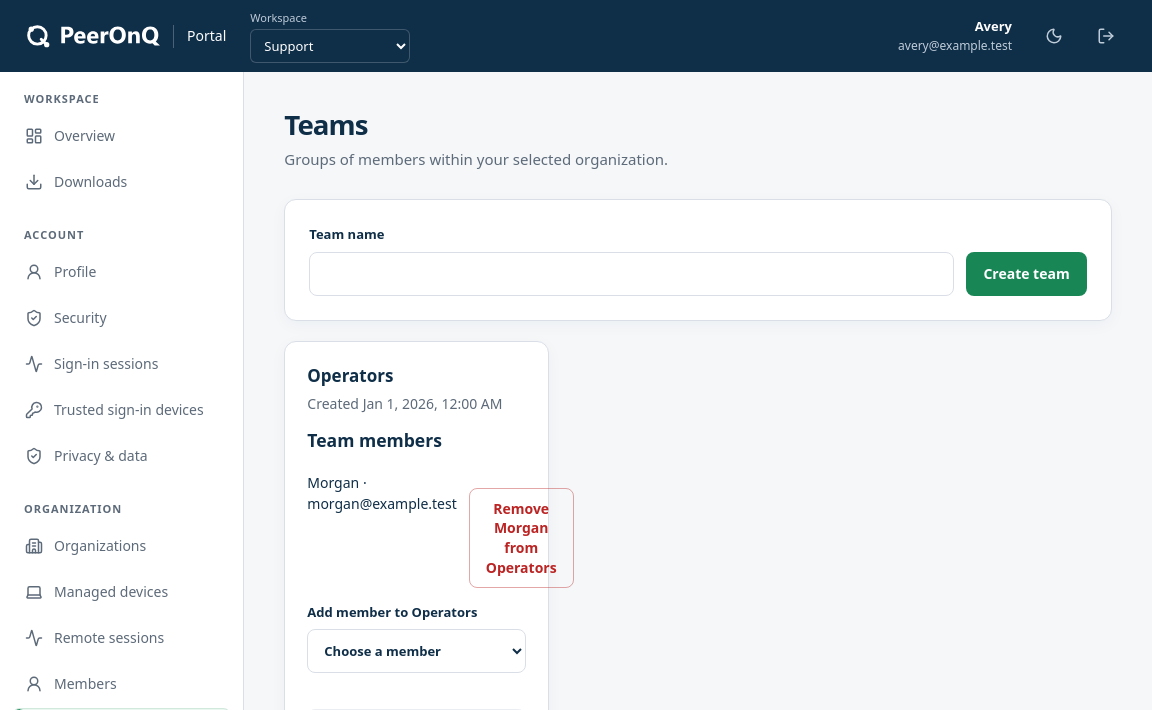
Test: organization lifecycle › removes a team member only after confirmation without removing organization membership
Click the button "Remove Morgan from Operators" at (521, 538), box [469, 488, 574, 588]
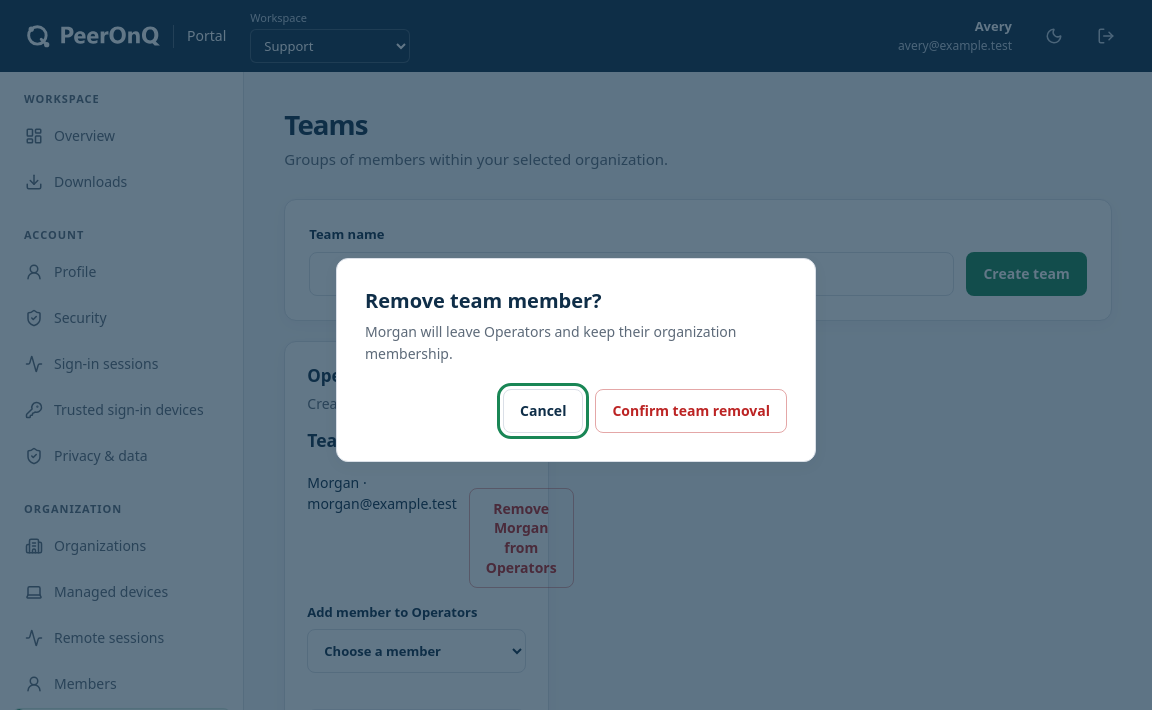
Click the button "Confirm team removal" at (691, 411), box [595, 389, 787, 433]
(page scrolled)
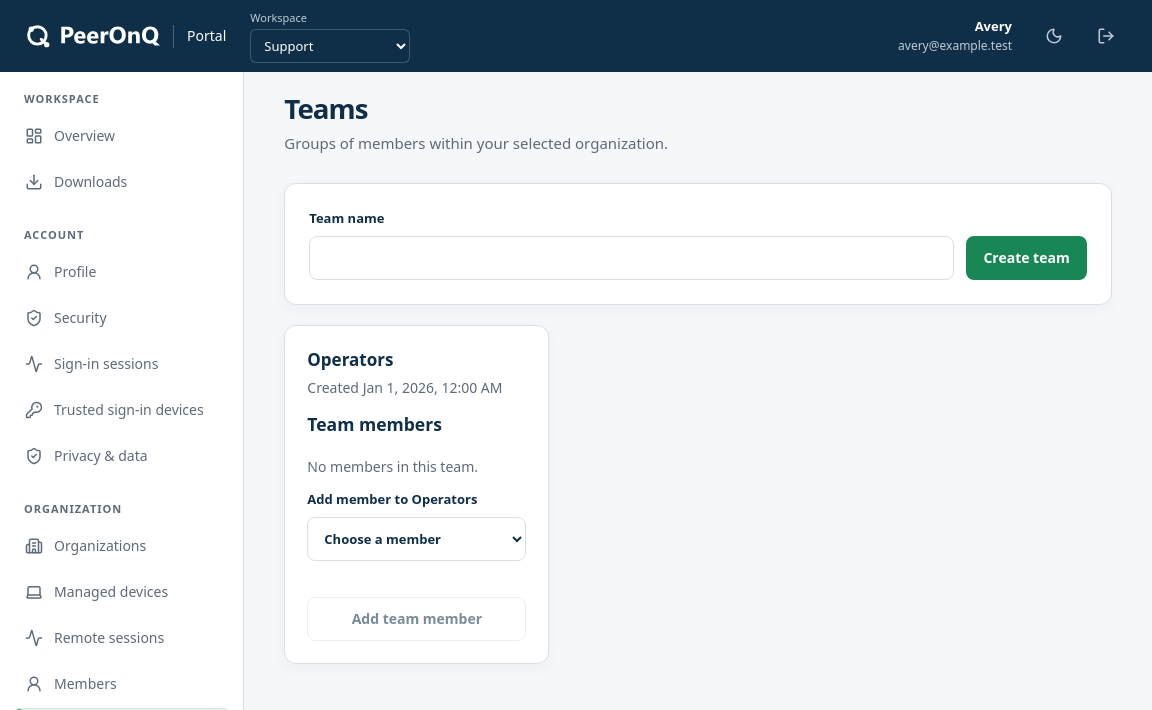
Result: the text "No members in this team." is shown at [307, 457, 478, 476]
